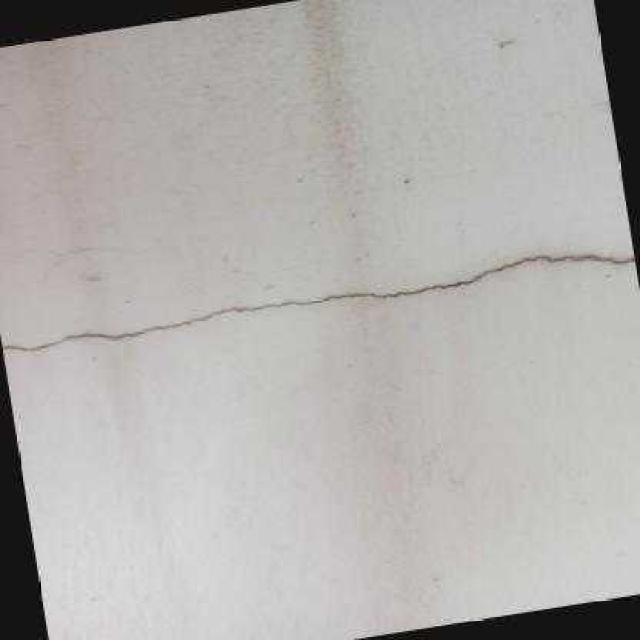D00: (0, 255, 634, 351)
